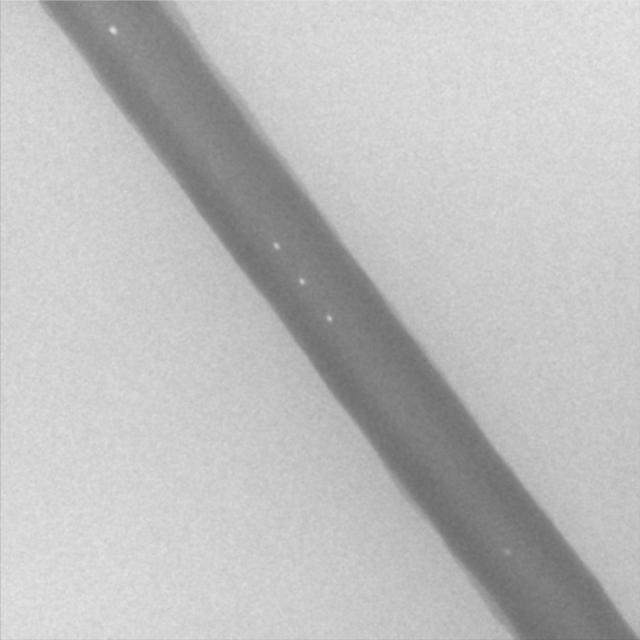air hole: (106, 23, 118, 37), (501, 545, 512, 558), (270, 240, 281, 252), (296, 275, 306, 286), (323, 311, 333, 322)
